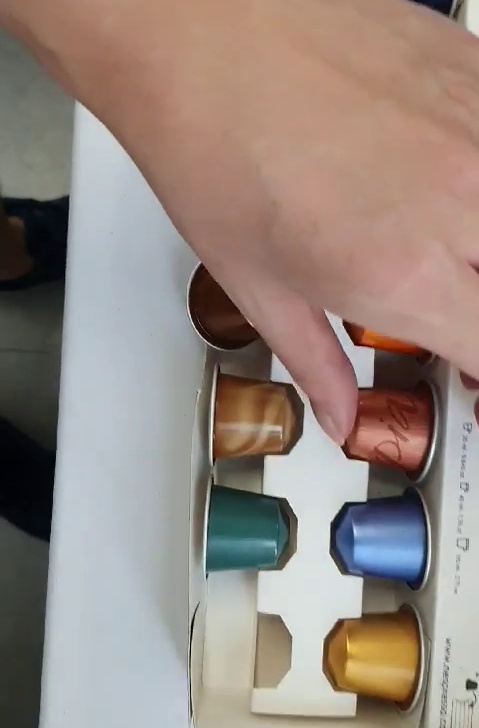capsule_6: (343, 375, 442, 488)
